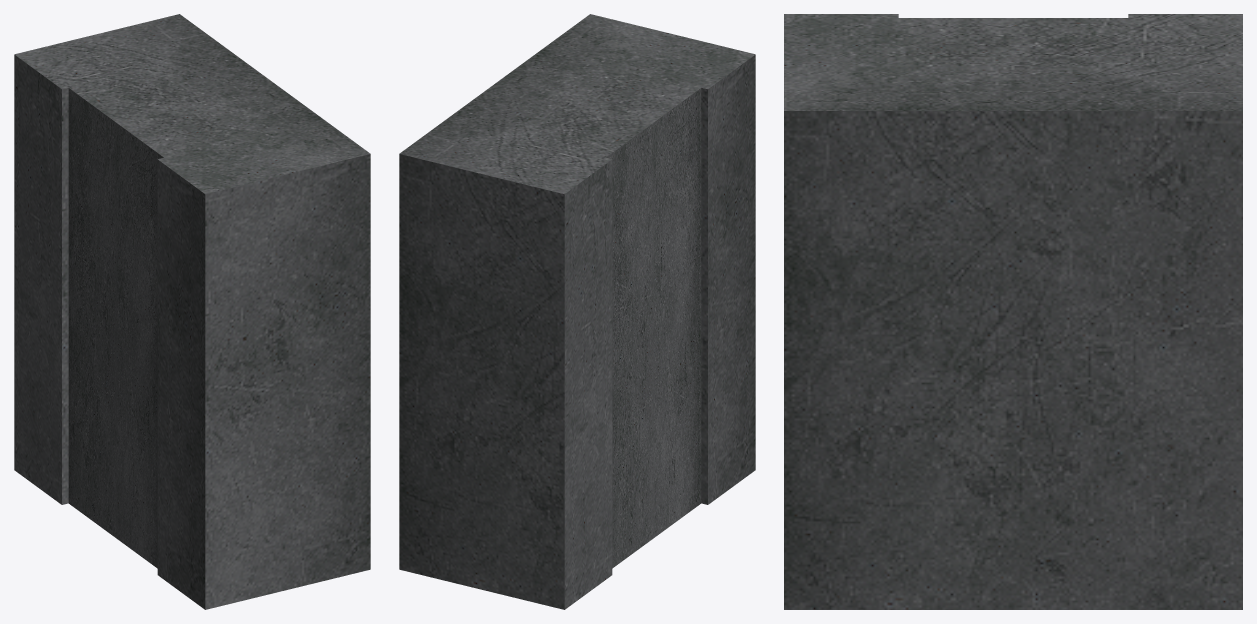
Rendered from TeslaGate_Body.obj.
3 renders of one model, left to right at view 1: azimuth 30°, elevation 25°; view 2: azimuth 150°, elevation 25°; view 3: azimuth 270°, elevation 25°, orthographic. The views are drawn at different scales.
Visible parts, largest first — view 1: TeslaGate_Body; view 2: TeslaGate_Body; view 3: TeslaGate_Body.
Boxes of the visible parts, x1,y1,x2,y2 form: TeslaGate_Body: (14, 14, 370, 609); TeslaGate_Body: (399, 14, 755, 609); TeslaGate_Body: (784, 14, 1242, 609).
Size of the model in its own units: 0.25 by 0.6 by 0.5.
2 materials, 2 textured.
